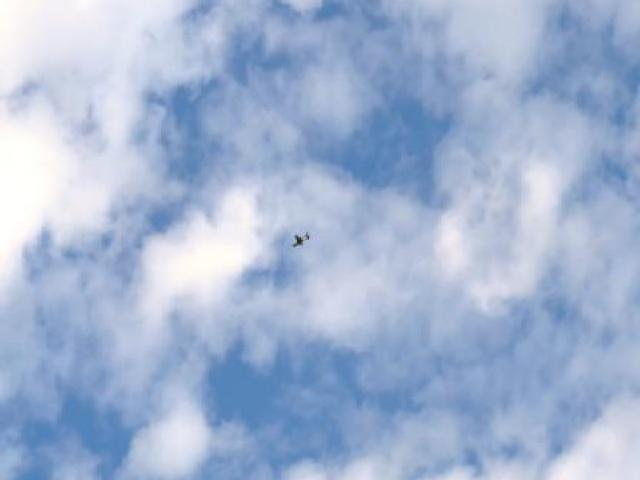uav: (289, 227, 311, 252)
